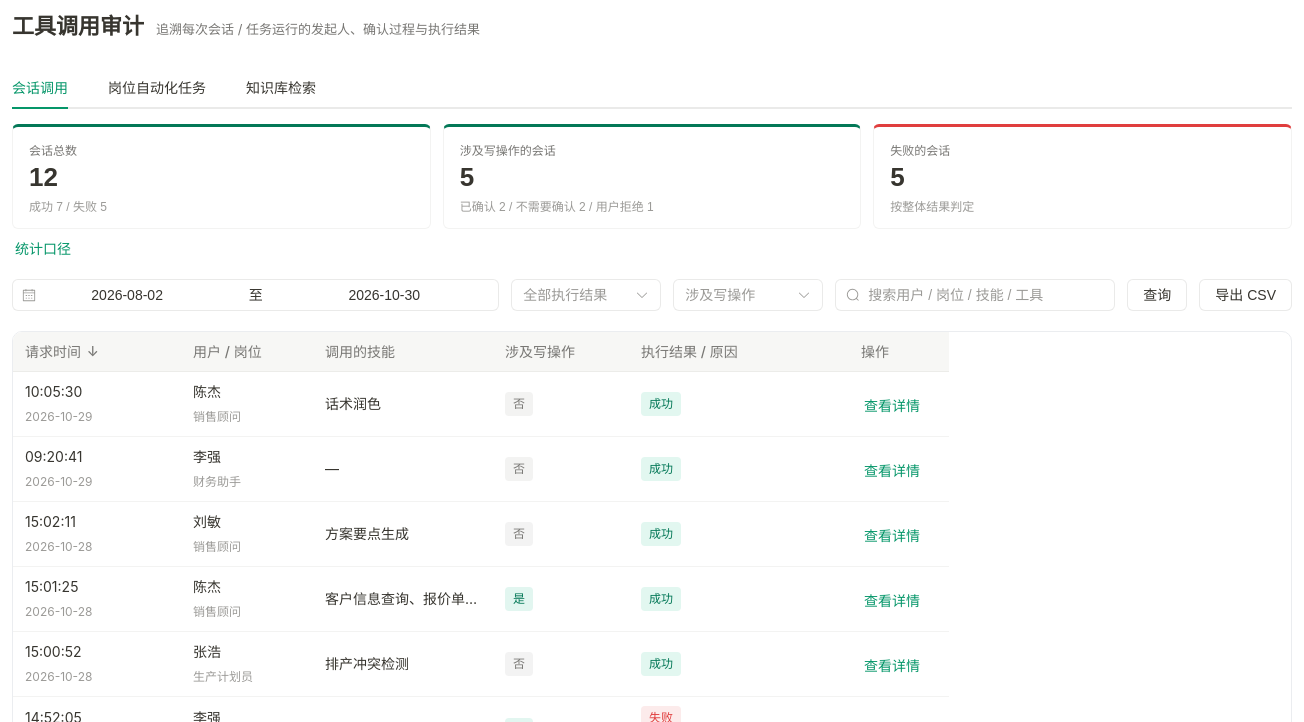
it: 统计卡片（§二） › 点「失败的会话」→ 列表只剩整体结果=失败的记录
Click the button with class "metric-card" showing "失败的会话 5 按整体结果判定" at (920, 151), box [873,124,1292,229]
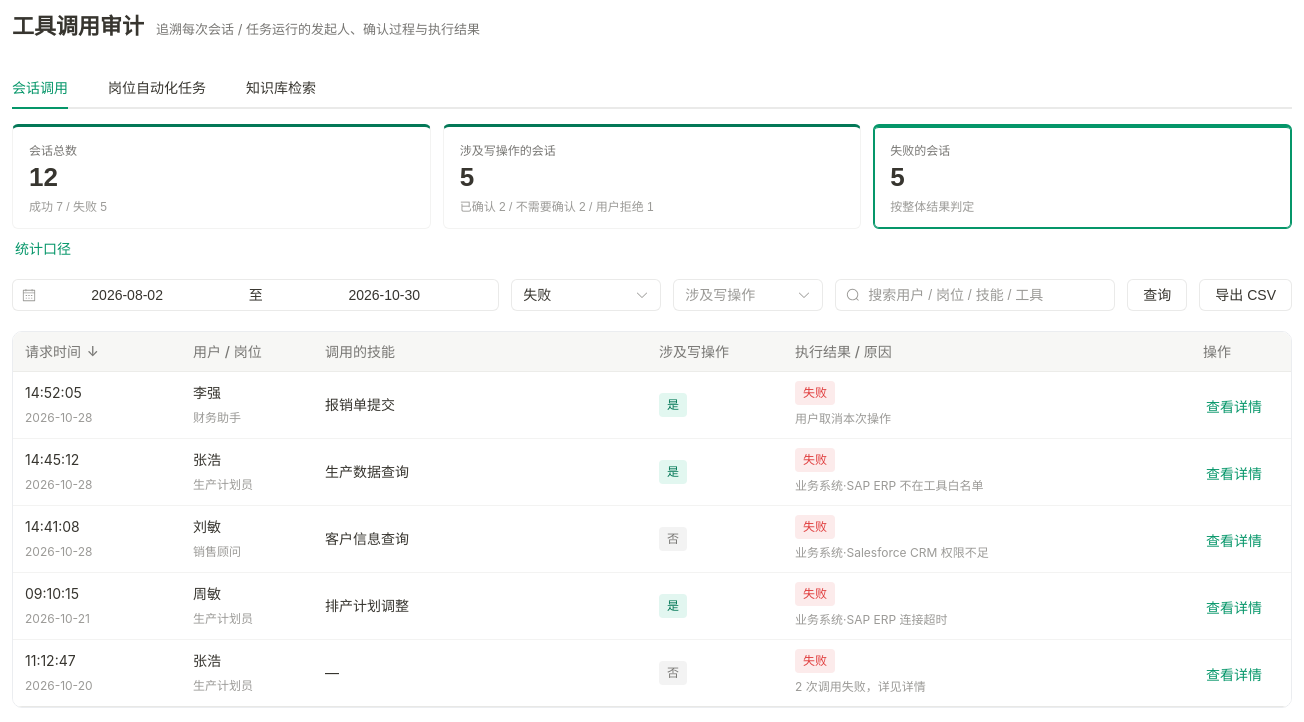
Expected: the row "14:52:05 2026-10-28 李强 财务助手 报销单提交 是 失败 用户取消本次操作 查看详情" is shown, [13,372,1291,439]
Expected: the row that starts with "生产计划员" shows "失败", [803,452,827,467]
Expected: the row that starts with "销售顾问" shows "失败", [803,519,827,534]
